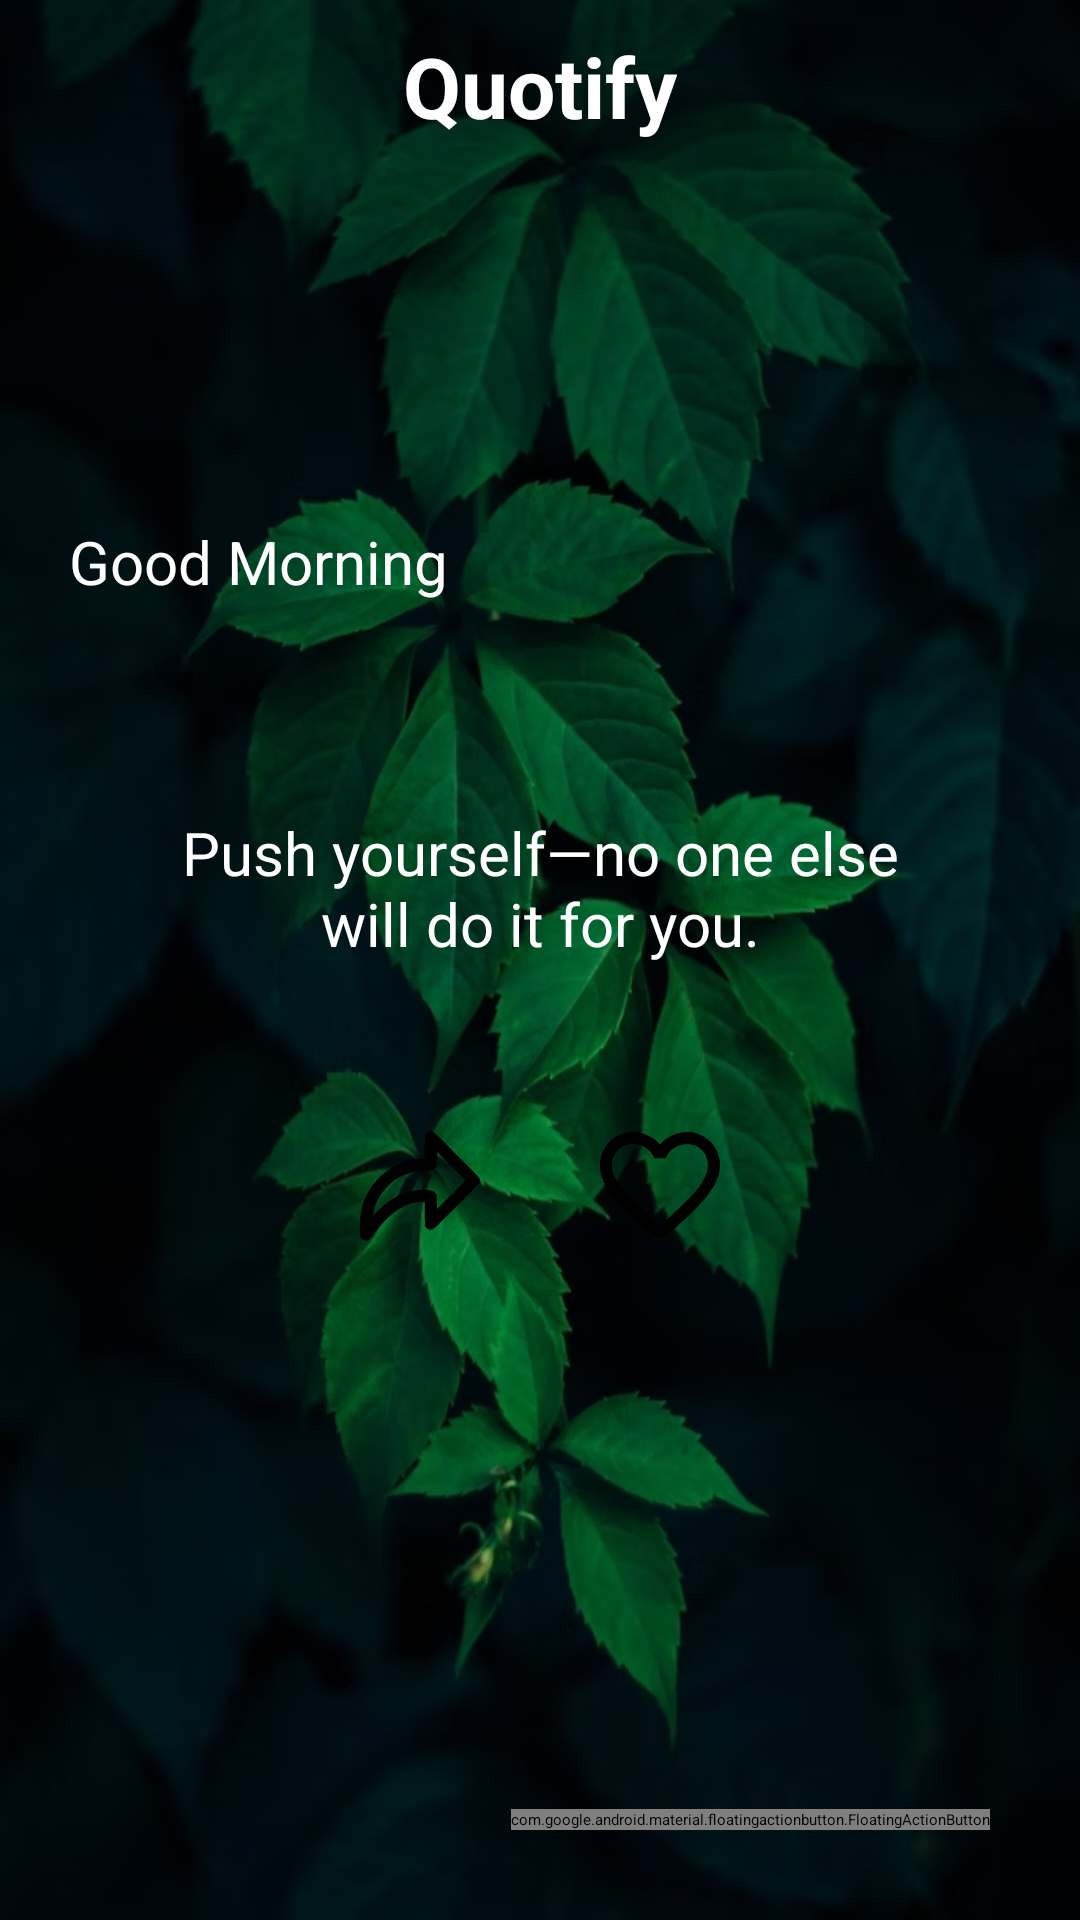

Where to tap for icons on this 1080px×1920px app screen, as (x,y):
Favorite Quote: (660,1186)
Share Quote: (420,1186)
